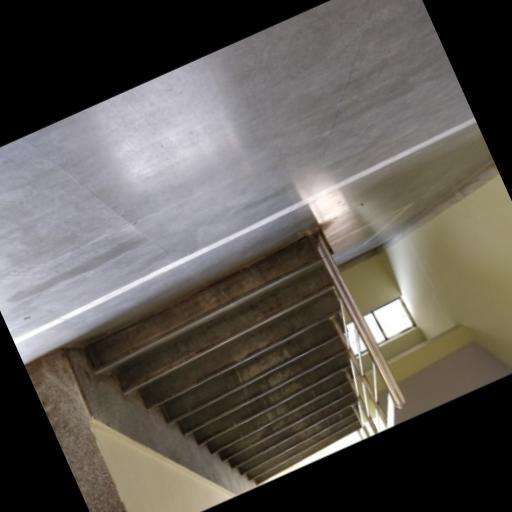stairs: (86, 236, 359, 483)
